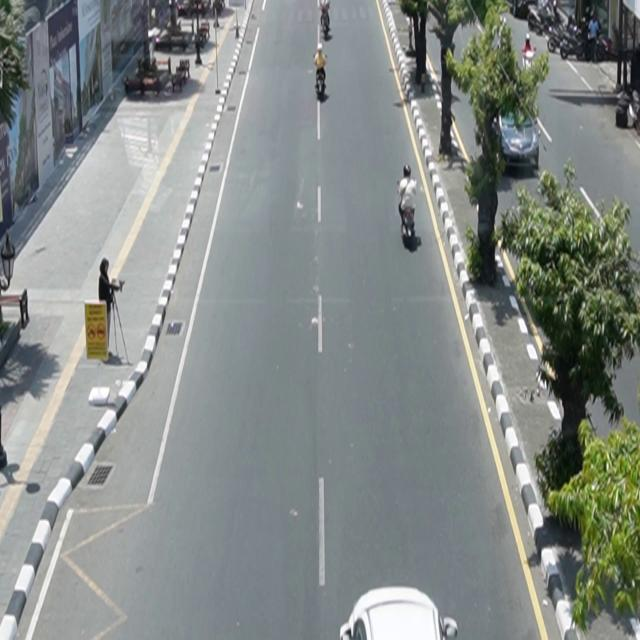car: (340, 586, 459, 640)
